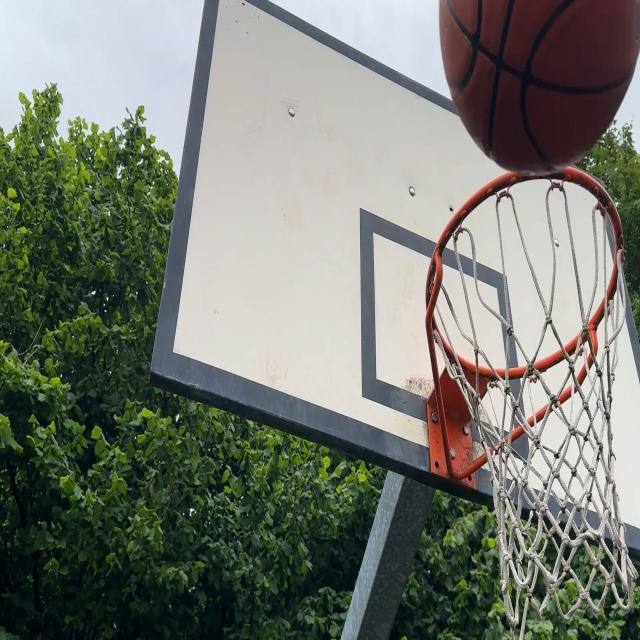Basketball: (441, 0, 640, 169)
